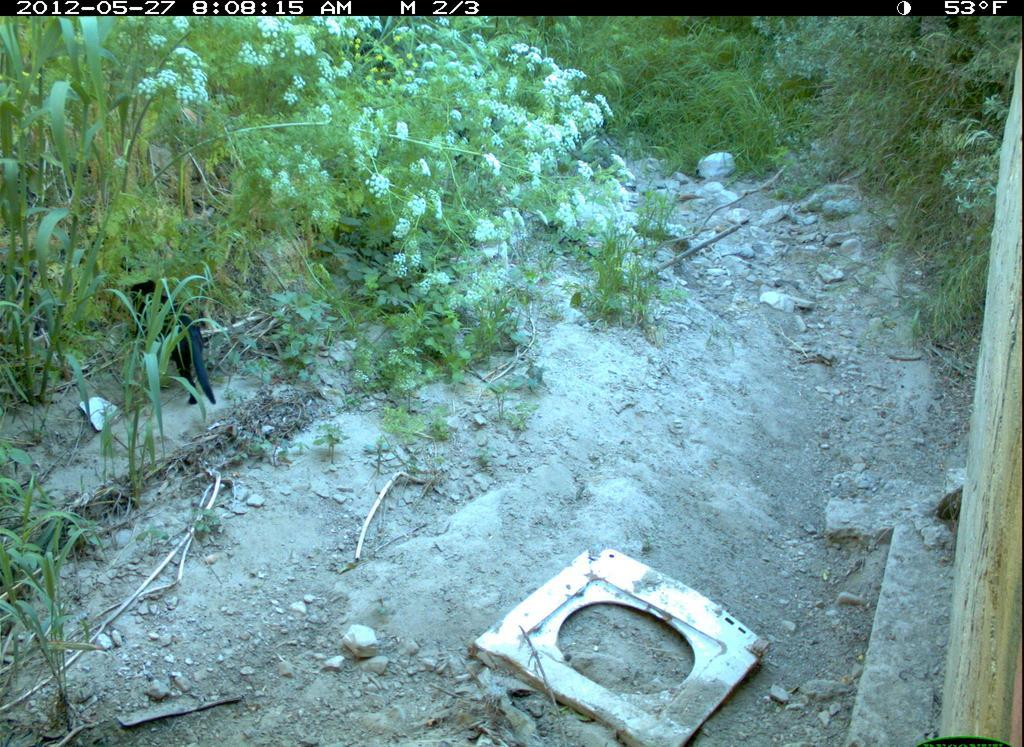cat: (126, 268, 218, 410)
